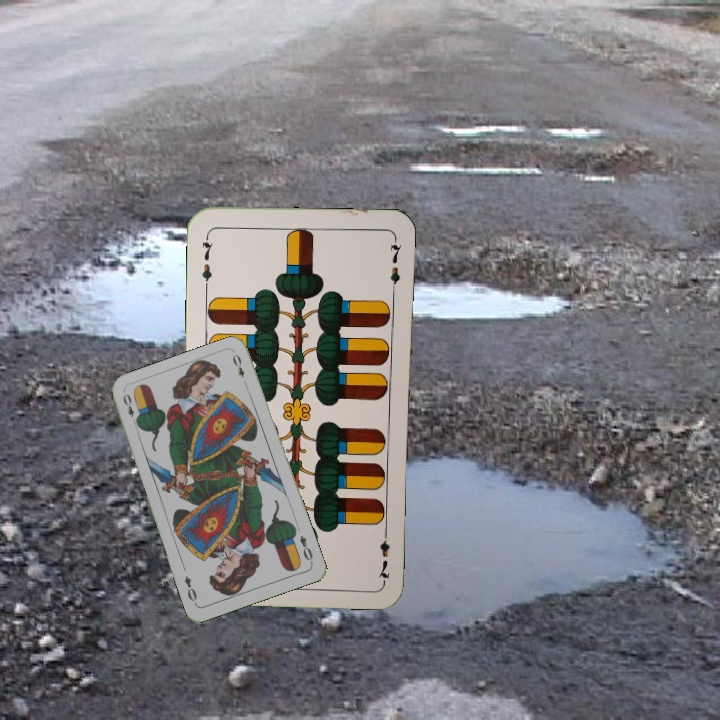E7: (197, 231, 216, 290), (374, 524, 392, 583)
EO: (119, 389, 140, 428), (296, 531, 315, 566)
